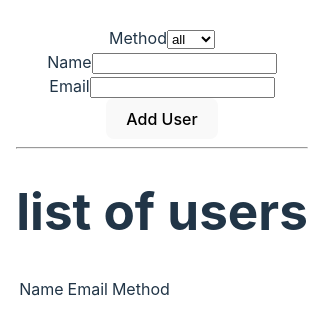
Should have userForm and userList component
This screenshot has width=325, height=333.
Step 1. Click the field labelled "Name" → (184, 64), box [92, 53, 277, 74]
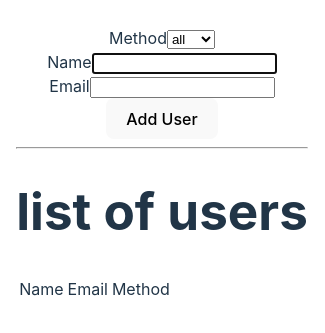
Step 2. Type keys "amir"
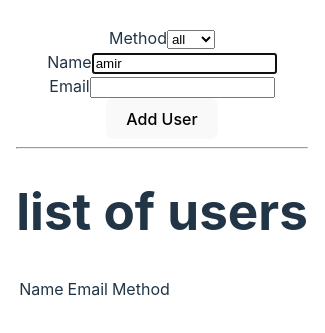
Step 3. Click the field labelled "Email" → (182, 88), box [90, 77, 275, 98]
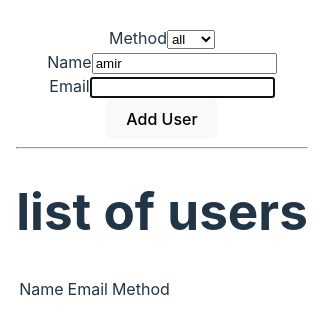
Step 4. Type keys "amir@test.com"
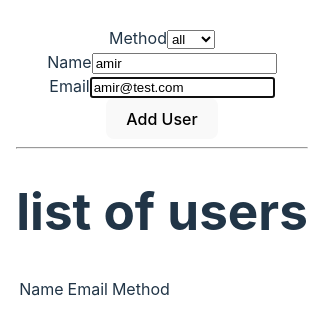
Step 5. Click the button → (162, 119), box [106, 98, 218, 139]
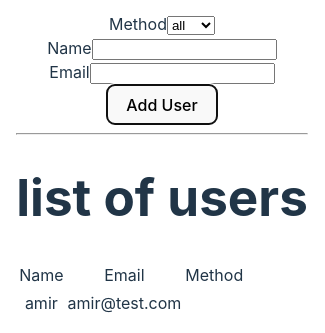
Now the cell "amir" is shown, box [18, 290, 64, 316]
Now the cell "amir@test.com" is shown, box [66, 290, 182, 316]
